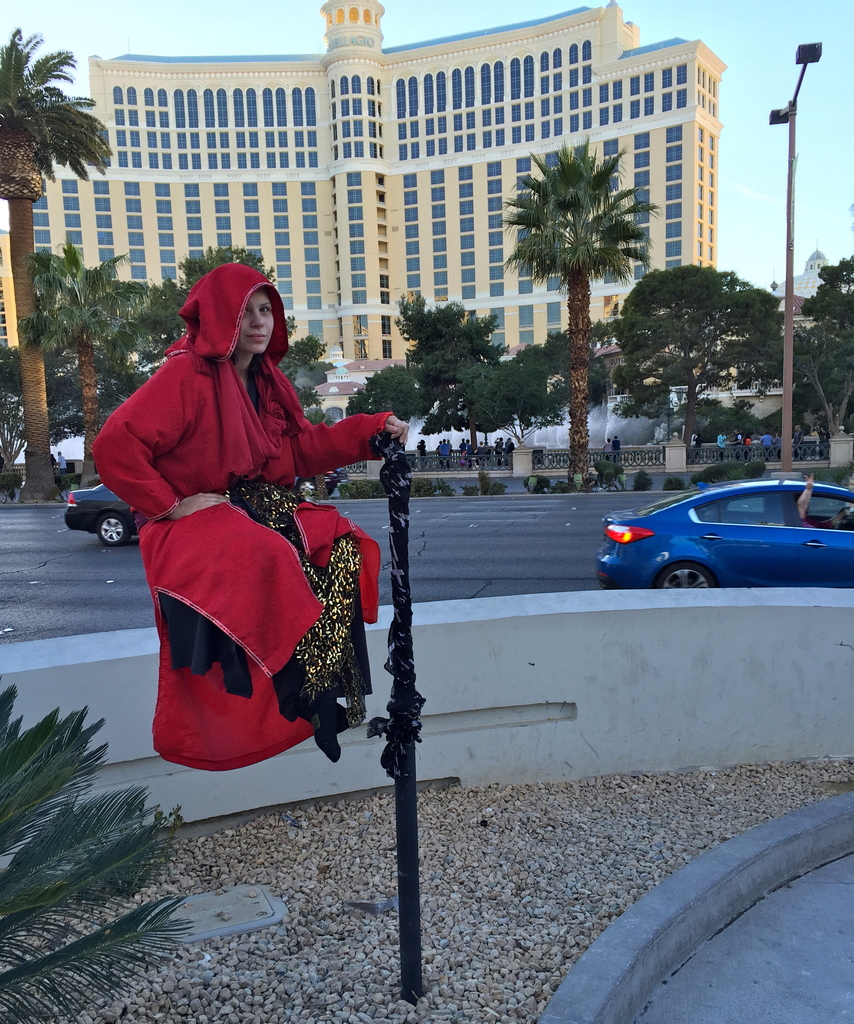Car: (598, 480, 853, 592), (56, 481, 293, 542)
